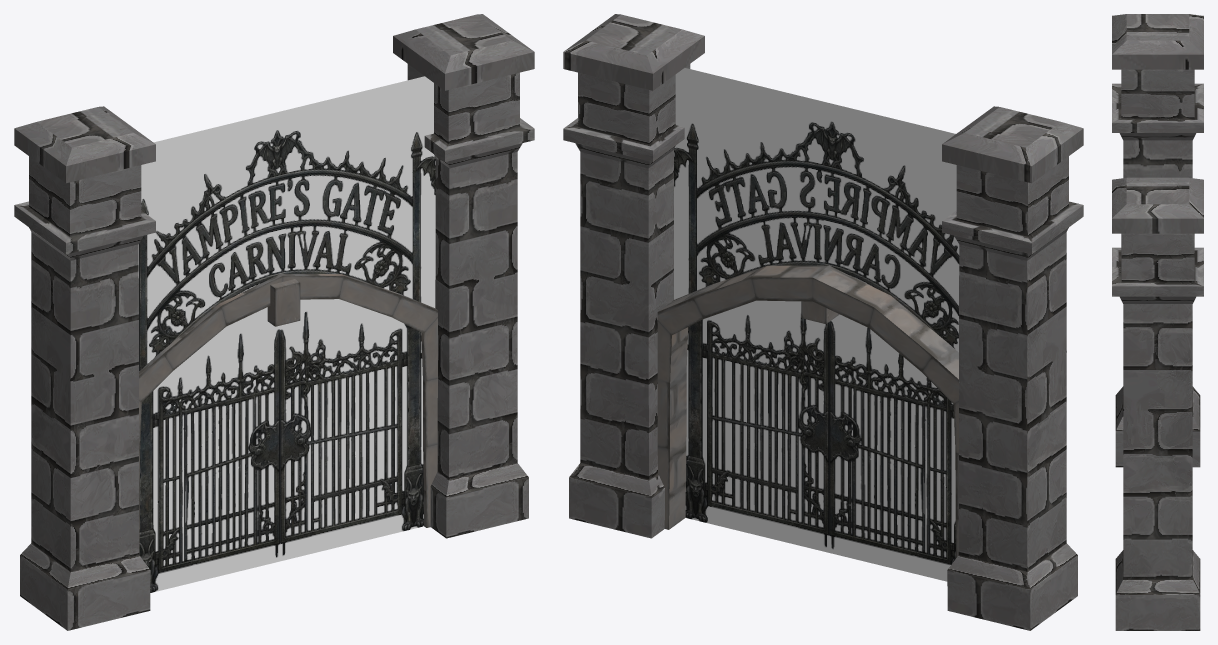
File: door000.fbx
3 renders of one model, left to right at view 1: azimuth 30°, elevation 25°; view 2: azimuth 150°, elevation 25°; view 3: azimuth 270°, elevation 25°, orthographic. The views are drawn at different scales.
Visible parts, largest first — view 1: Cube.031; view 2: Cube.031; view 3: Cube.031.
Boxes of the visible parts, x1,y1,x2,y2 form: Cube.031: [14, 14, 534, 630]; Cube.031: [563, 14, 1083, 630]; Cube.031: [1112, 14, 1203, 630].
Bounding box in the file's own units: 684 × 131 × 664.
